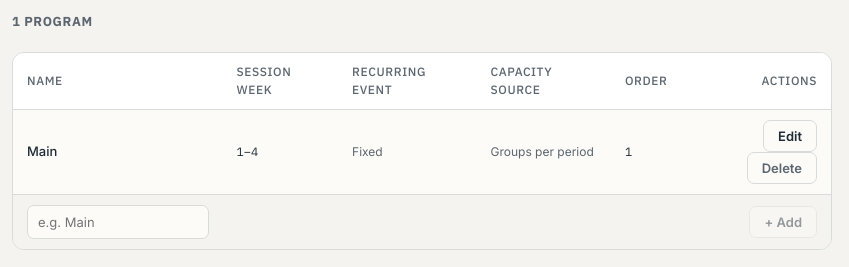
CohortsScreen › offers no coming-soon options, and shows a program saved with one as the default
The image size is (849, 267).
Check: the text "Main" is shown, box [13,109,223,194]
Check: the text "Fixed" is shown, box [338,109,476,194]
Click the button "Edit" at x=790, y=136, box [763,120,817,152]
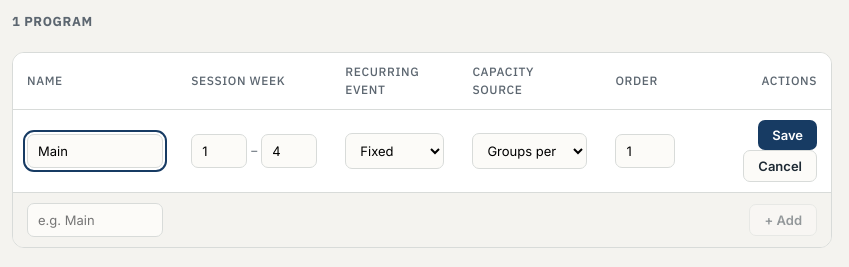
Check: the 1st dropdown shows "Fixed", box [345,132,444,168]
Check: the 2nd dropdown shows "Groups per period", box [472,132,587,168]
